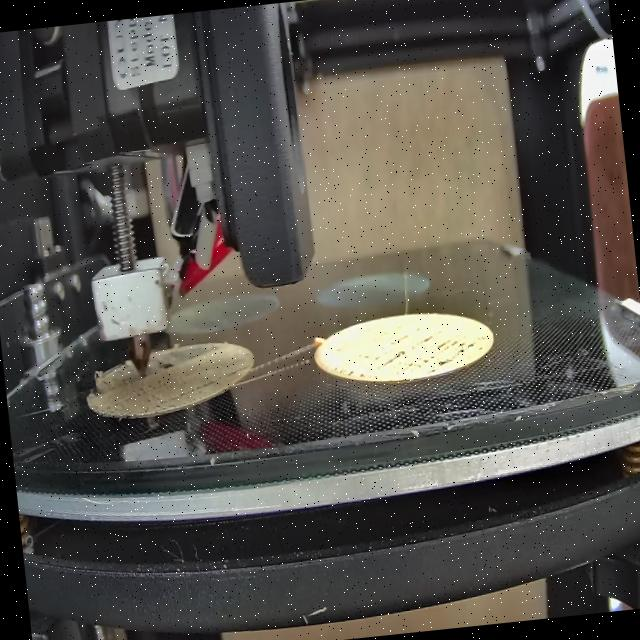under_extrusion: (330, 329, 487, 383), (150, 341, 249, 399), (86, 356, 120, 406)
